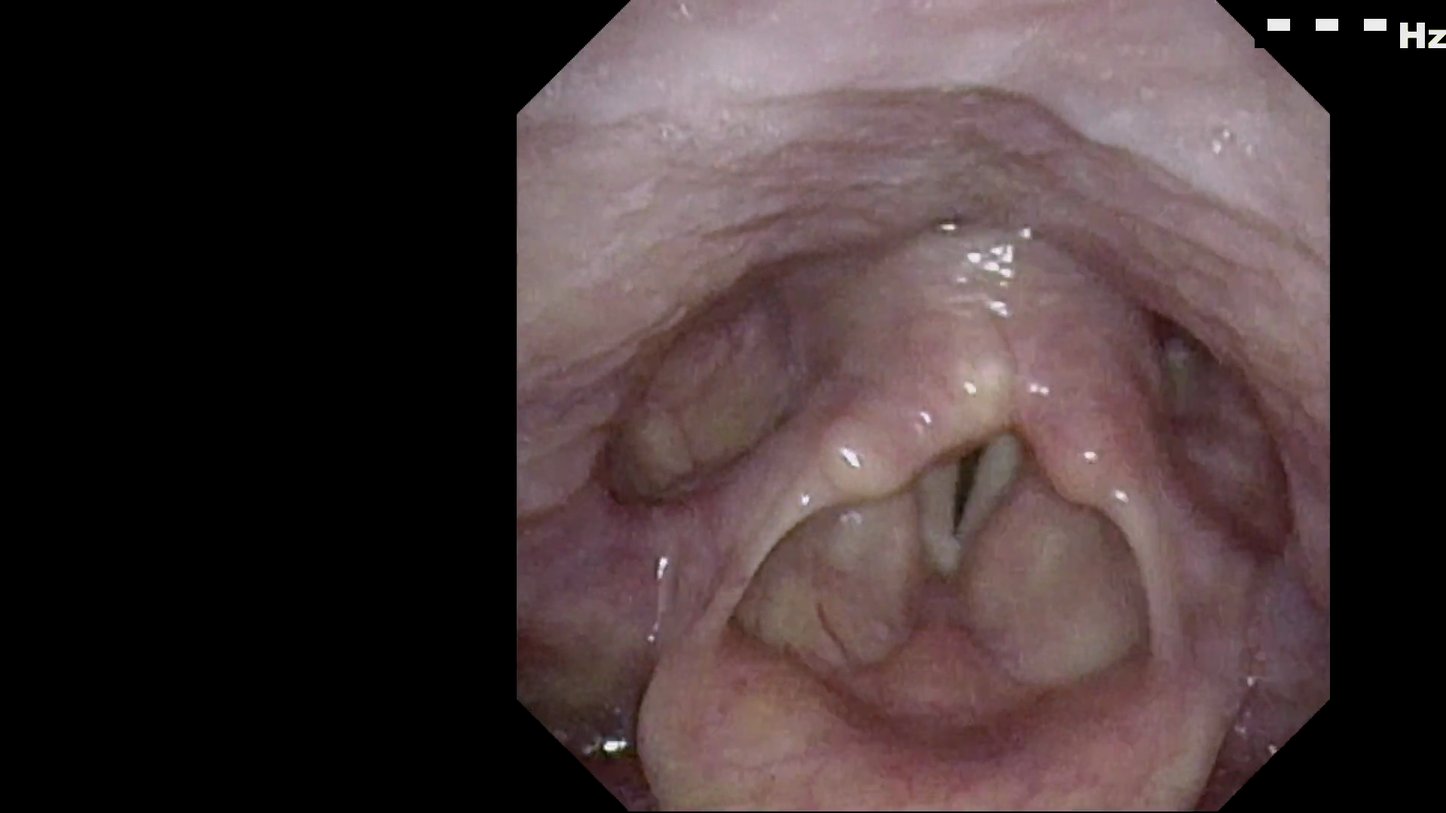epiglottis: (634, 600, 1250, 764)
trachea: (884, 400, 1050, 572)
